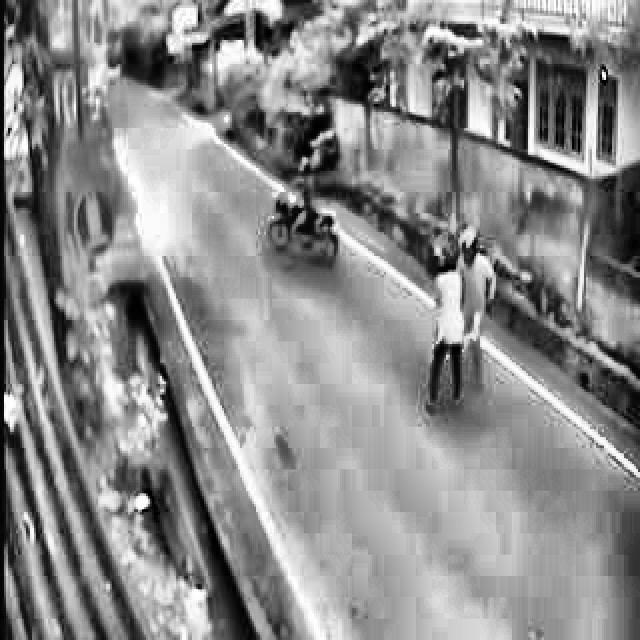robbery: (419, 225, 501, 415)
